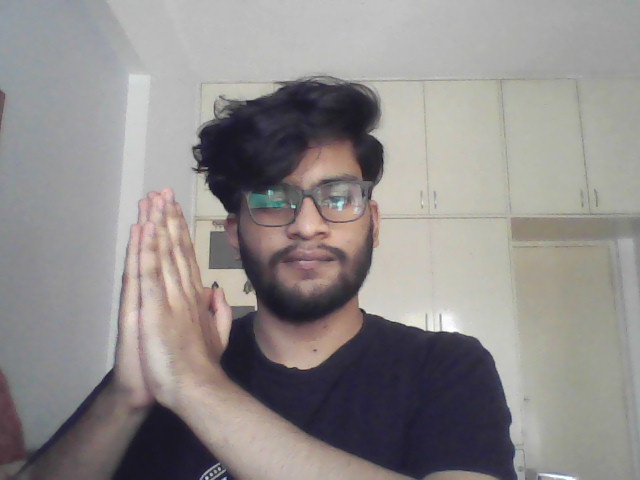Namaskara: (113, 185, 234, 411)
